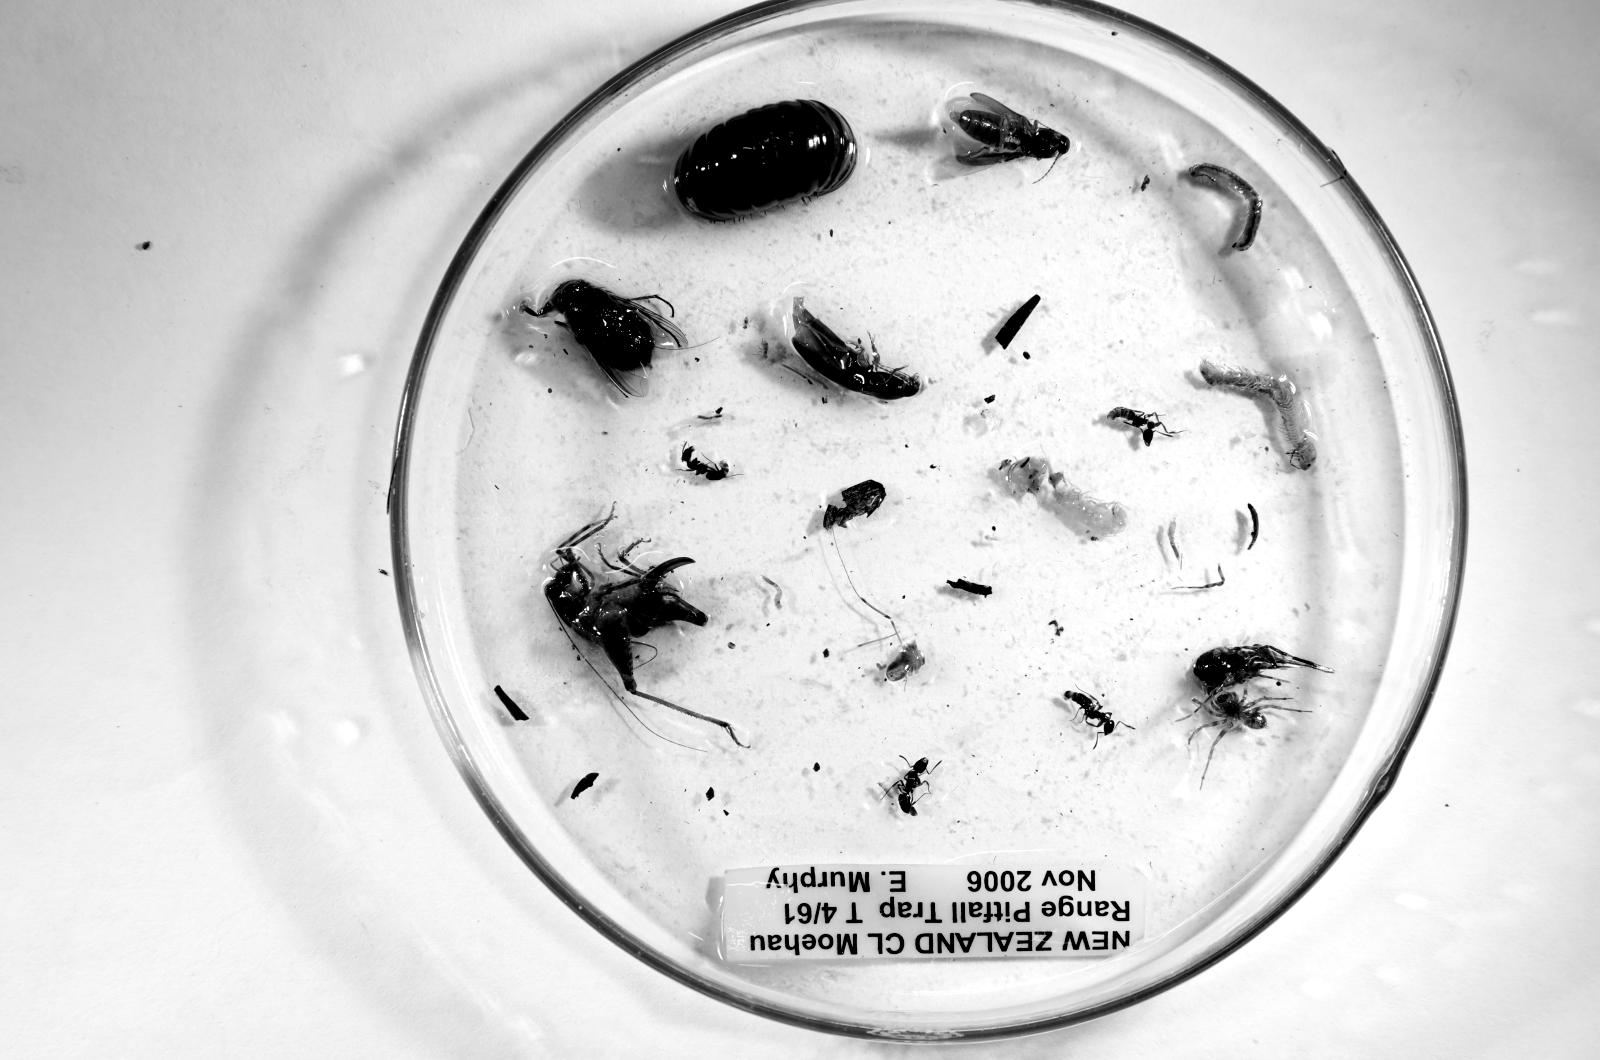araneae: (1188, 687, 1310, 749)
coleoptera: (792, 297, 921, 400), (950, 93, 1070, 166)
diplopoda: (1199, 361, 1315, 470), (1188, 163, 1263, 251)
diptera: (520, 279, 688, 396)
formicidae: (883, 757, 935, 816), (1063, 691, 1133, 735), (1107, 407, 1179, 446), (681, 444, 728, 480)
isopoda: (674, 99, 857, 221)
opiliones: (1192, 644, 1330, 698)
orthoptera: (545, 515, 743, 745)
